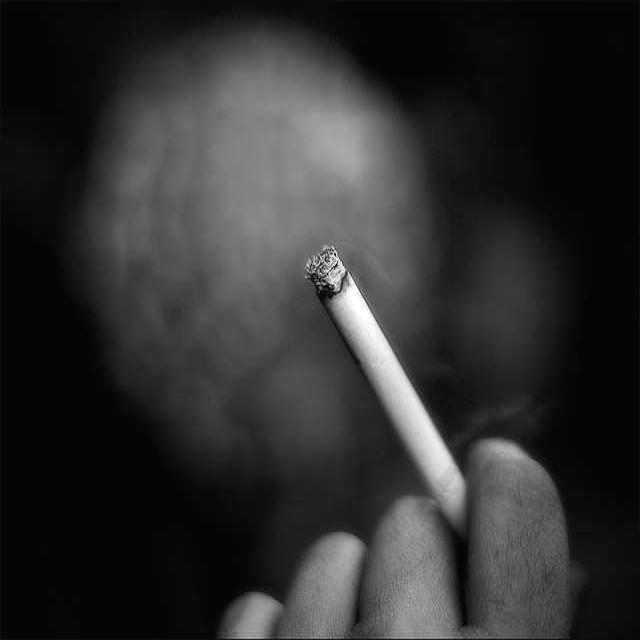Smooking: (292, 232, 490, 536)
